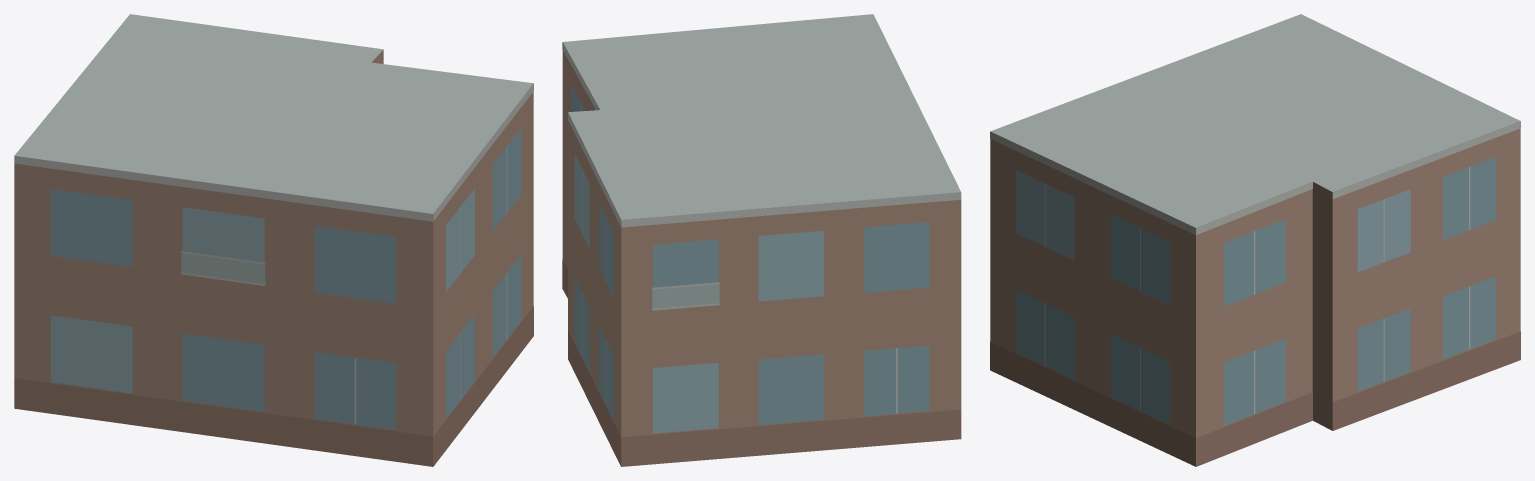
Rendered from survey-upis-32627739.glb.
3 renders of one model, left to right at view 1: azimuth 30°, elevation 25°; view 2: azimuth 150°, elevation 25°; view 3: azimuth 270°, elevation 25°, orthographic. The views are drawn at different scales.
Parts seen in each view (by area): view 1: survey-upis-32627739.tmp; view 2: survey-upis-32627739.tmp; view 3: survey-upis-32627739.tmp.
Boxes of the visible parts, x1=… form: survey-upis-32627739.tmp: x1=14, y1=14, x2=533, y2=466; survey-upis-32627739.tmp: x1=562, y1=14, x2=961, y2=466; survey-upis-32627739.tmp: x1=990, y1=14, x2=1520, y2=466.
Size of the model in its own units: 15.37 by 8 by 16.11.
